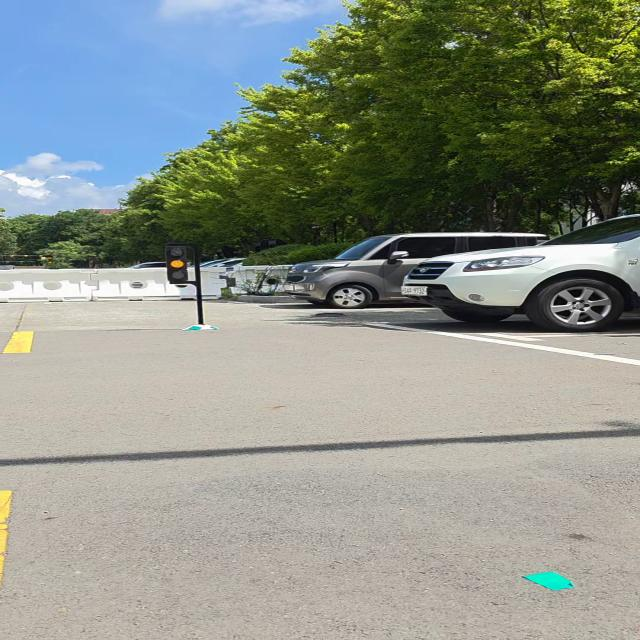yellow: (164, 246, 188, 281)
